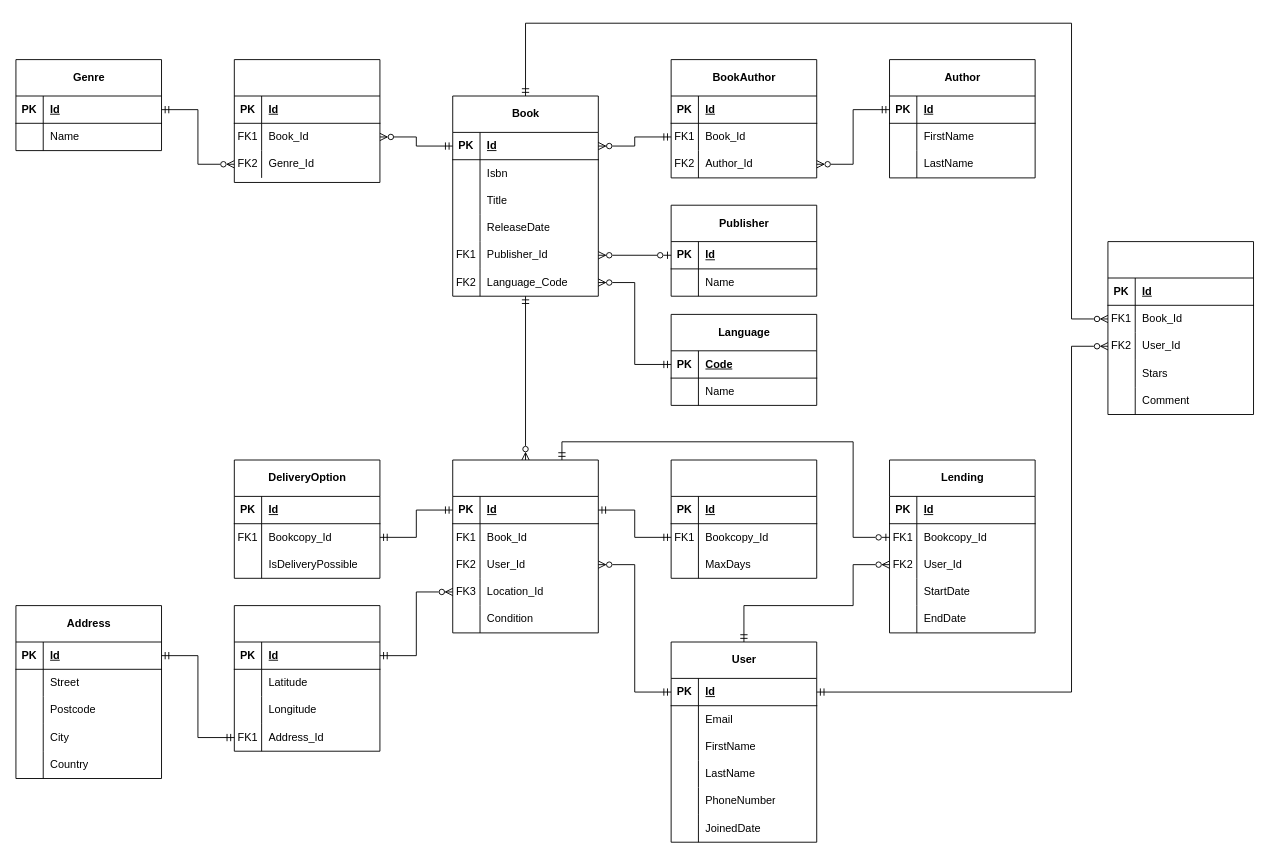
Some shapes in this 1269 by 858 pixel diagram are drawn without their labels. Each missing label, with the box of its shape:
Availability: (670, 459, 817, 578)
Bookcopy: (452, 459, 598, 633)
BookGenre: (233, 59, 380, 182)
Location: (233, 605, 380, 751)
Rating: (1107, 241, 1254, 415)
